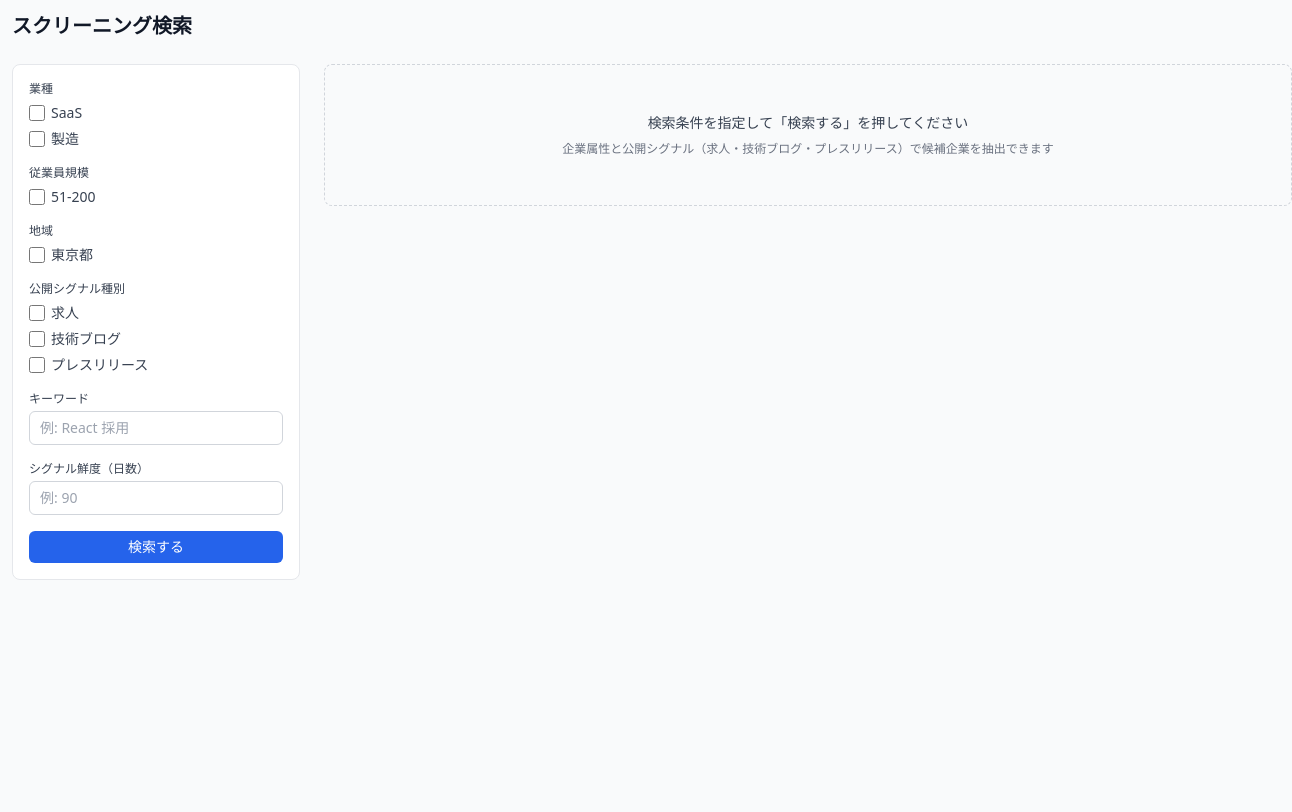
ScreeningSearchPage › 結果 0 件は空状態を表示する
The image size is (1292, 812).
What coordinates should you click on to do the following:
click the checkbox labelled "SaaS"
I would click on:
 (37, 113)
Its box is [29,105,45,121].
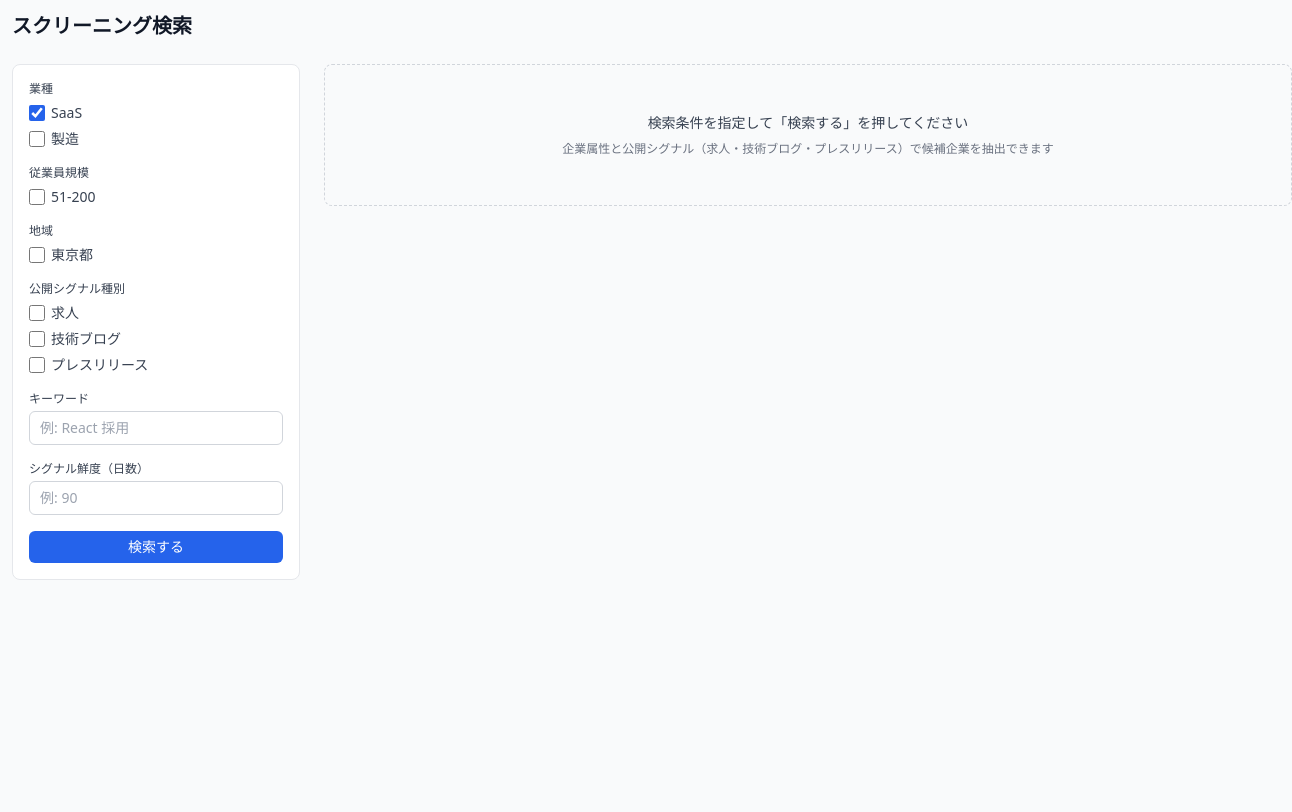
What coordinates should you click on to do the following:
click the button "検索する"
I would click on:
 (156, 547)
Its box is [29,531,283,563].
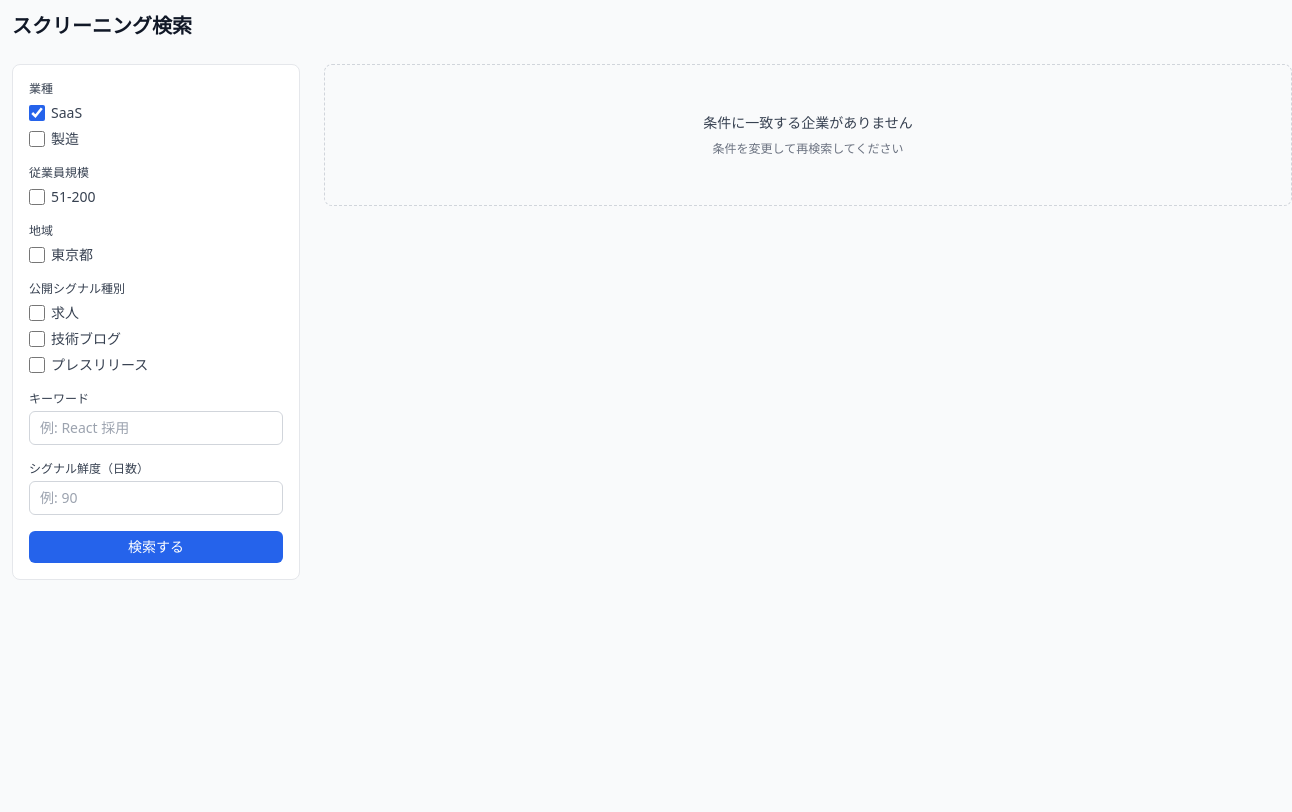
Expected: the text "条件に一致する企業がありません" is shown, [703,113,913,133]
